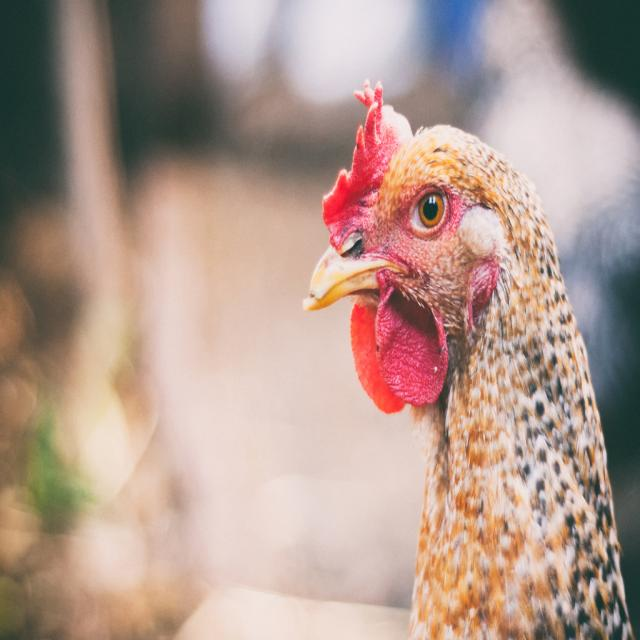Chicken: (300, 92, 640, 627)
